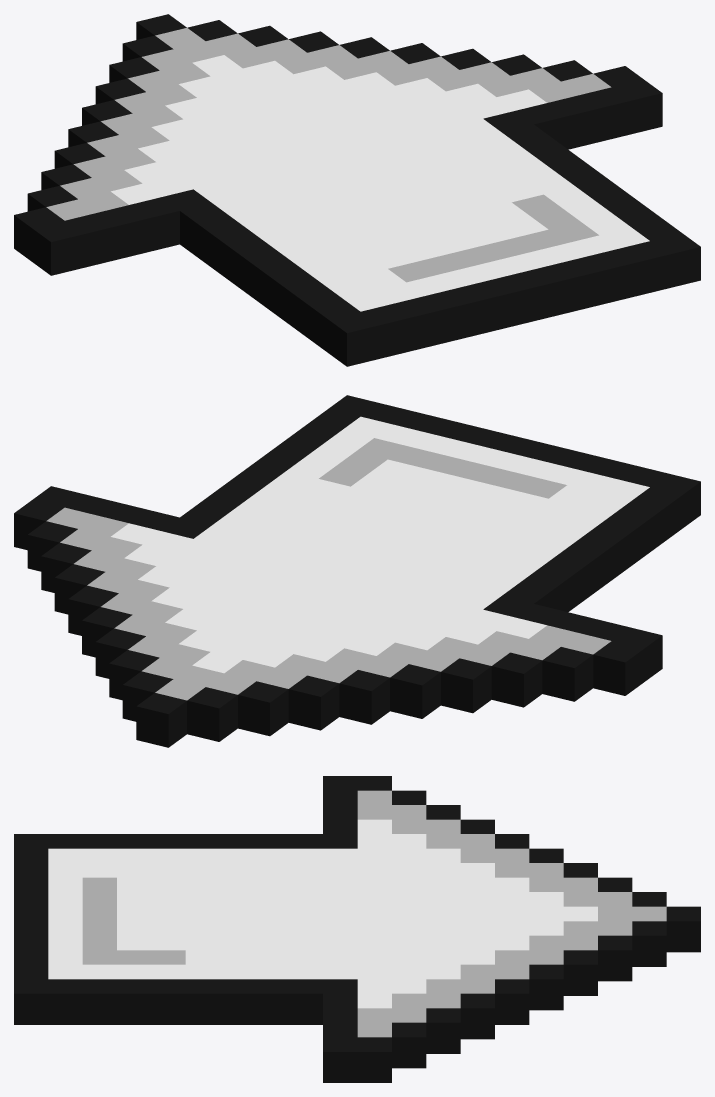
The model's file is arrow-3.obj.
The picture shows the model from 3 angles, top to bottom: view 1: azimuth 30°, elevation 25°; view 2: azimuth 150°, elevation 25°; view 3: azimuth 270°, elevation 25°; orthographic projection. The views are drawn at different scales.
Size of the model in its own units: 1.9 by 0.1 by 2.
Materials: 1 (1 with a texture image).
